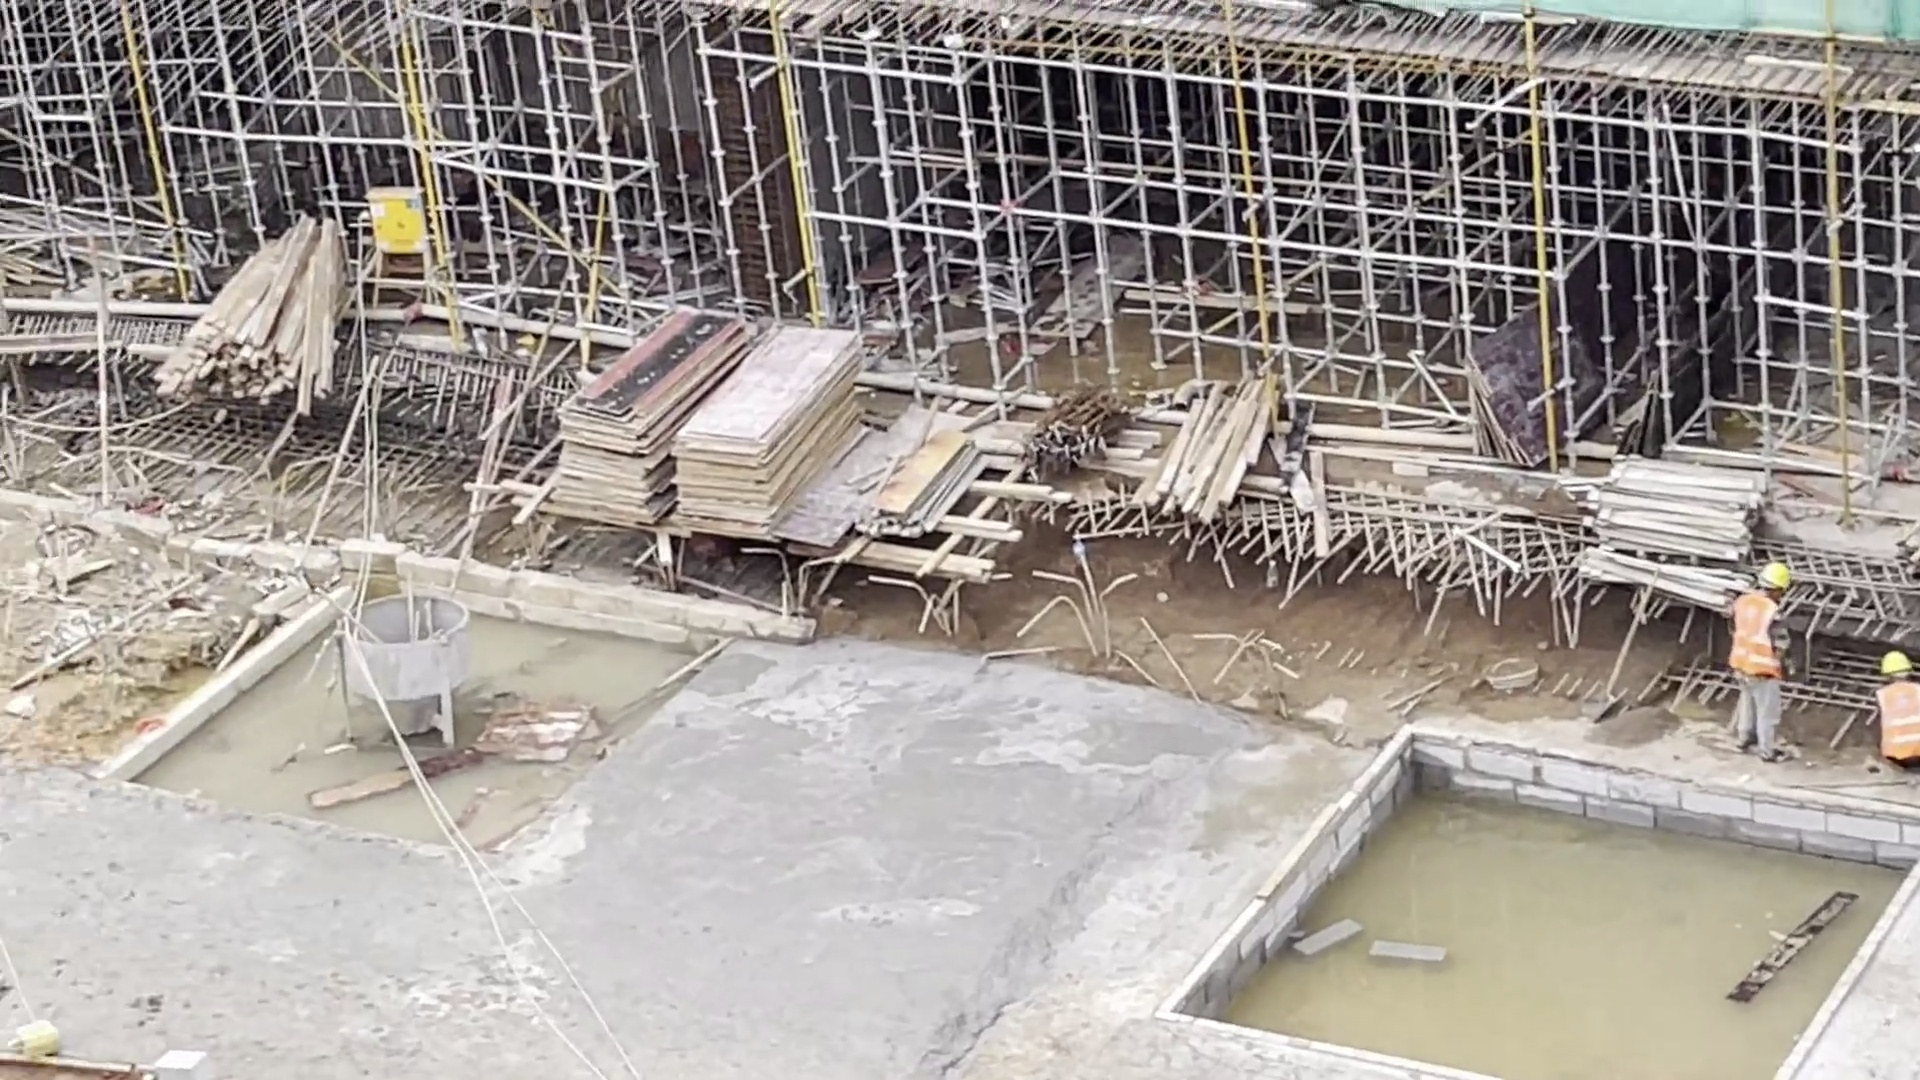board: (555, 314, 762, 523), (673, 330, 868, 516)
ebox: (366, 184, 436, 308)
helmet: (1762, 562, 1794, 594), (1878, 647, 1911, 676)
person: (1729, 557, 1798, 766), (1868, 645, 1920, 771)
rebar: (1015, 386, 1130, 484)
vest: (1735, 590, 1786, 682), (1879, 680, 1920, 765)
wood: (162, 212, 351, 408), (1578, 459, 1775, 605), (1133, 381, 1282, 519)
